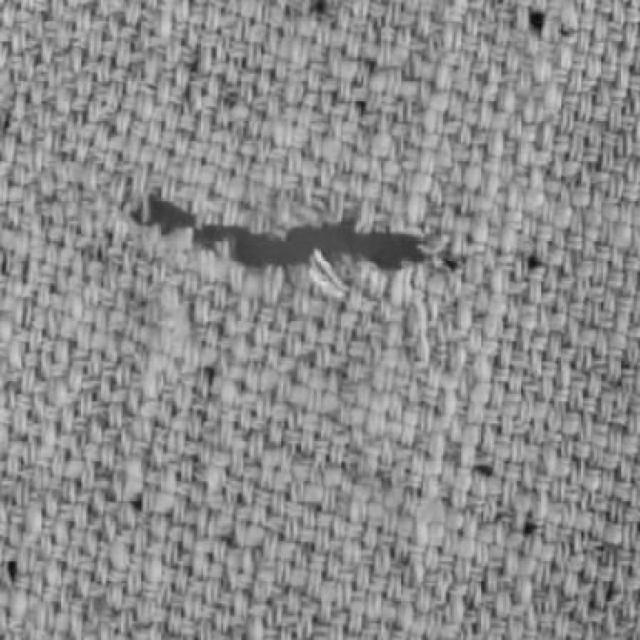seam: (62, 134, 528, 362)
